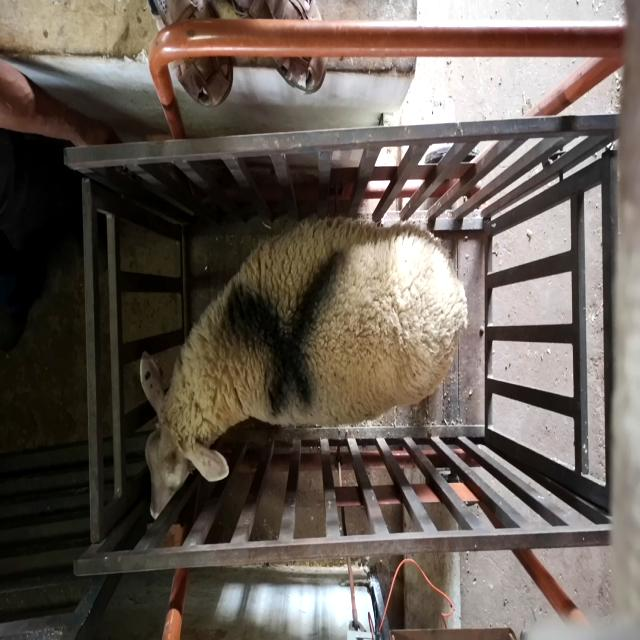sheep: (141, 217, 468, 520)
